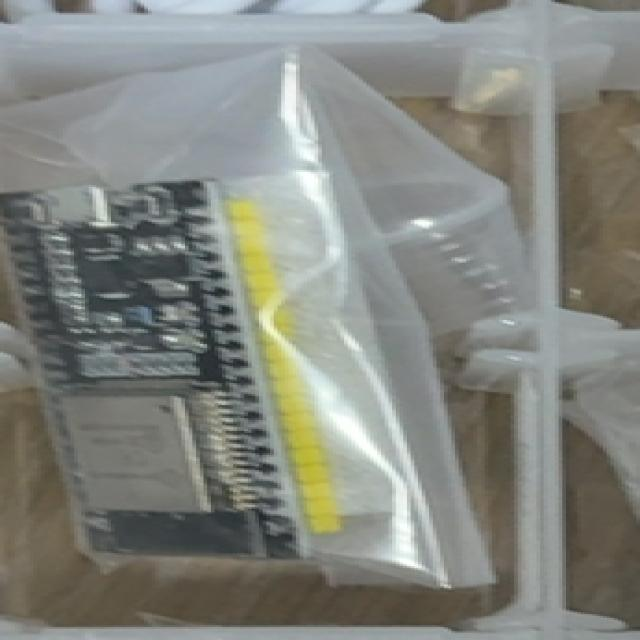ESP32: (0, 170, 355, 568)
